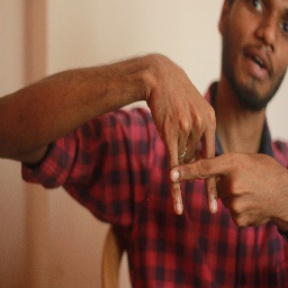H: (135, 120, 250, 231)
